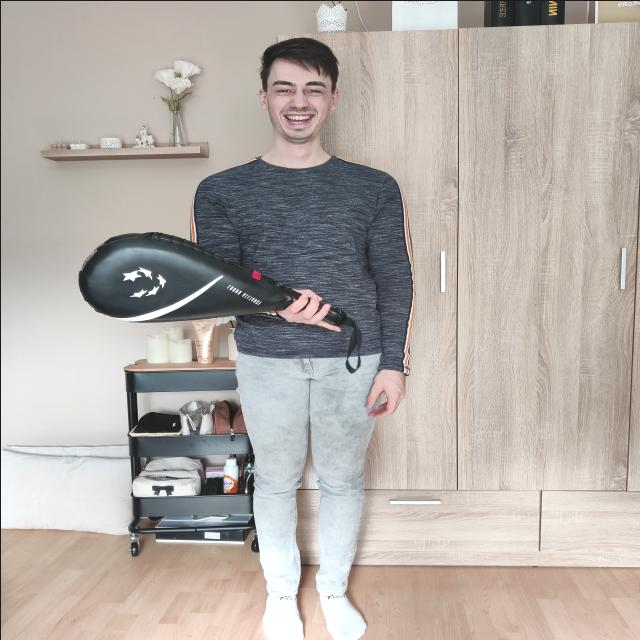paddle: (74, 228, 344, 326)
